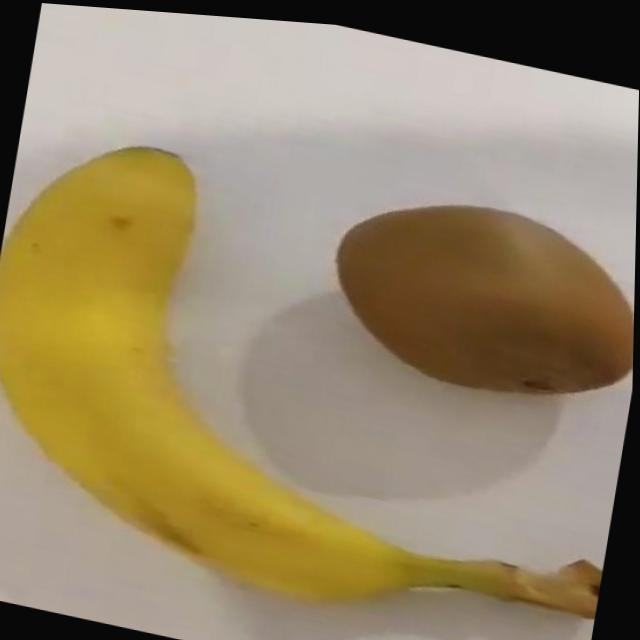Banana: (0, 115, 638, 640)
